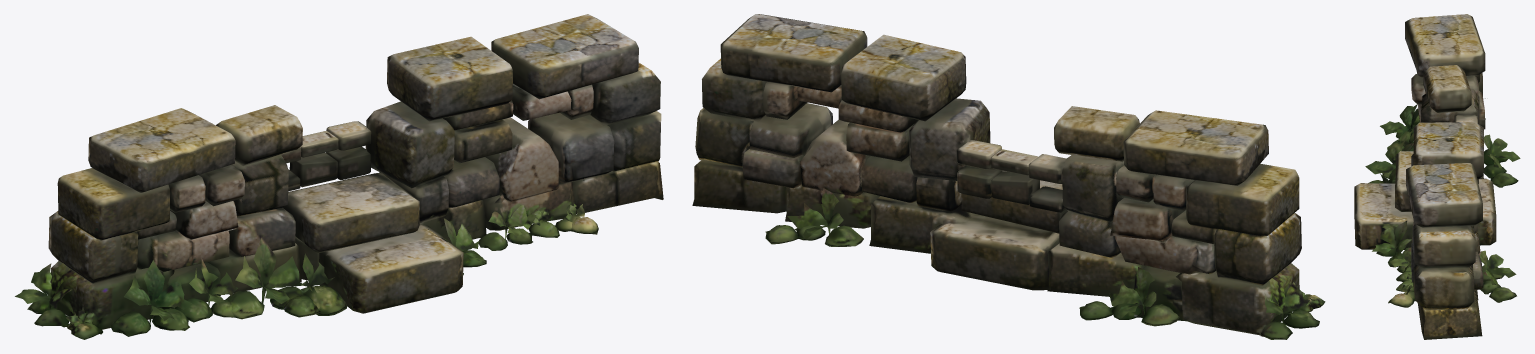
The model's file is act1_kit_v1_squeeze_stile.glb.
3 renders of one model, left to right at view 1: azimuth 30°, elevation 25°; view 2: azimuth 150°, elevation 25°; view 3: azimuth 270°, elevation 25°, orthographic. The views are drawn at different scales.
Parts seen in each view (by area): view 1: act1_kit_v1_squeeze_stile; view 2: act1_kit_v1_squeeze_stile; view 3: act1_kit_v1_squeeze_stile.
Boxes of the visible parts, x1=… form: act1_kit_v1_squeeze_stile: x1=15, y1=14, x2=663, y2=339; act1_kit_v1_squeeze_stile: x1=692, y1=14, x2=1325, y2=339; act1_kit_v1_squeeze_stile: x1=1354, y1=14, x2=1520, y2=339.
Size of the model in its own units: 1 by 0.279 by 0.3147.
Materials: 1 (1 with a texture image).
